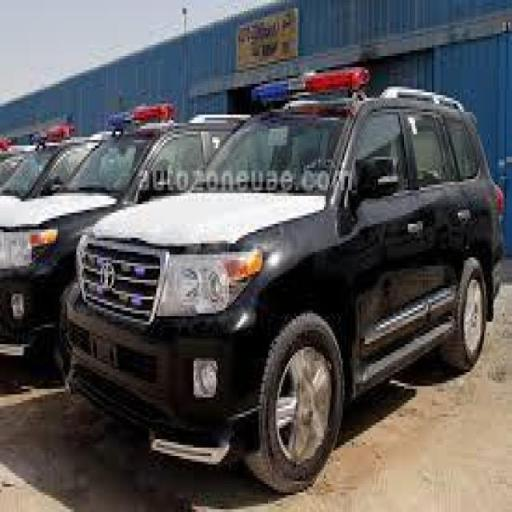Ambulance: (74, 70, 505, 495)
